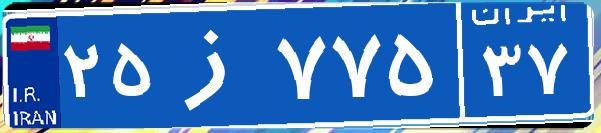2: (57, 26, 110, 107)
3: (475, 38, 525, 113)
5: (385, 28, 445, 110), (110, 28, 158, 105)
7: (273, 28, 330, 110), (330, 28, 385, 110), (525, 38, 570, 115)
ز: (158, 15, 273, 115)
